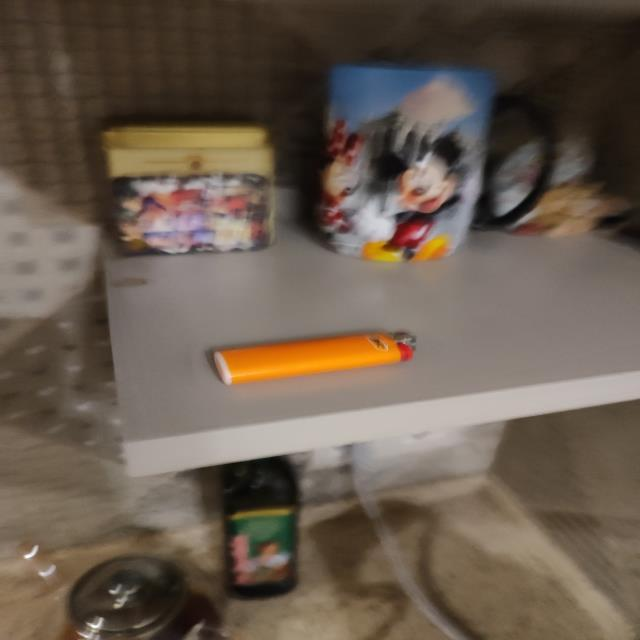lighter: (211, 331, 415, 385)
